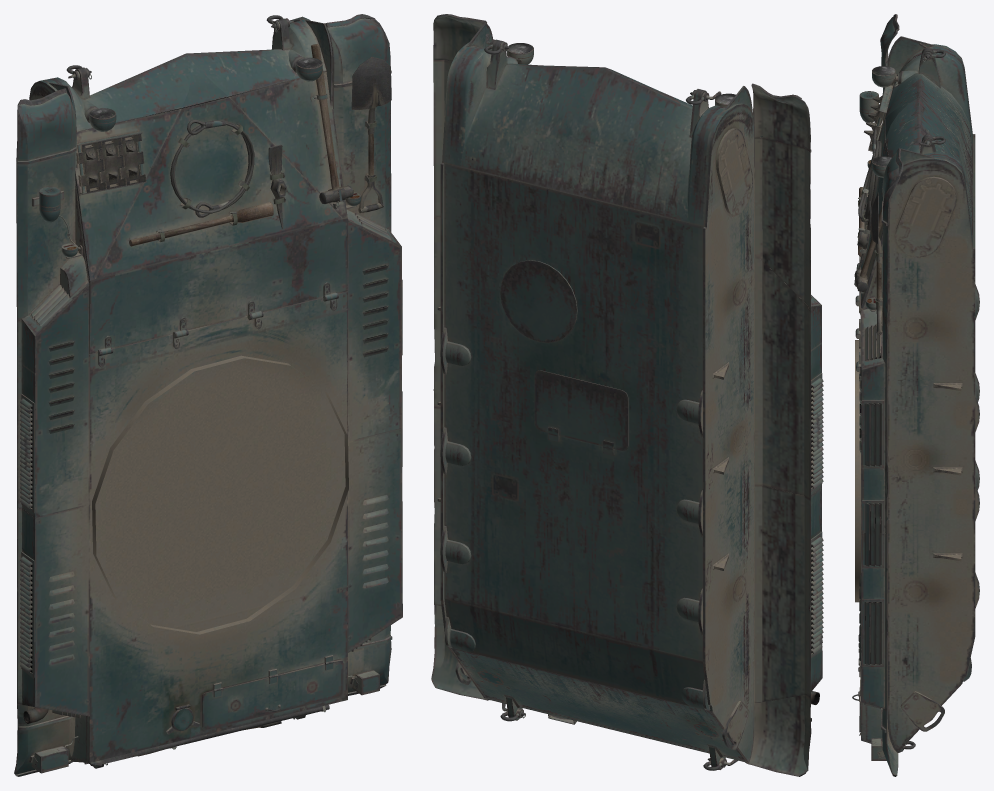
The model's file is Hull.glb.
3 views of the same model, side by side, from view 1: azimuth 30°, elevation 25°; view 2: azimuth 150°, elevation 25°; view 3: azimuth 270°, elevation 25° (orthographic). The views are drawn at different scales.
Visible parts, largest first — view 1: set_0_group_0; view 2: set_0_group_0; view 3: set_0_group_0.
Boxes of the visible parts, x1,y1,x2,y2 form: set_0_group_0: (14, 14, 402, 776); set_0_group_0: (431, 14, 823, 776); set_0_group_0: (852, 14, 979, 776).
Size of the model in its own units: 2.43 by 4.27 by 0.802.
1 material, 1 textured.
